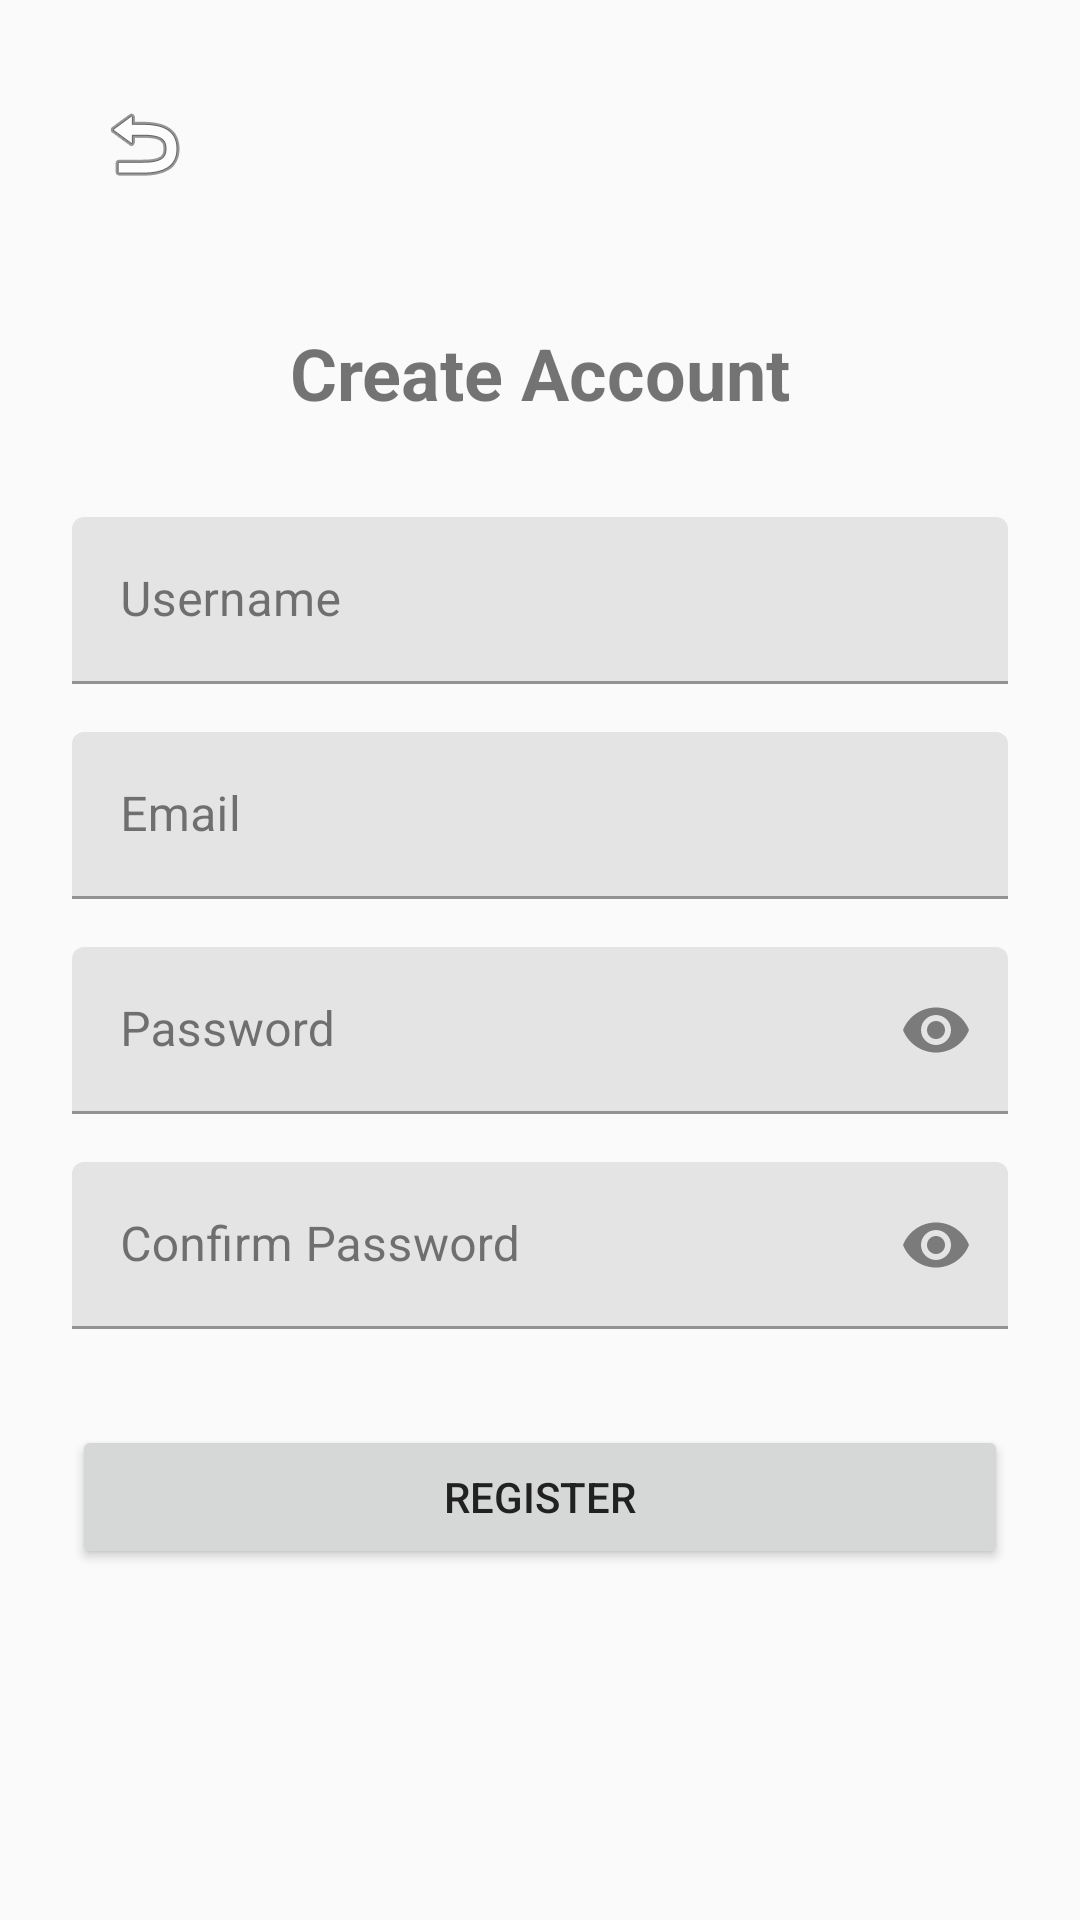

Point at icon controls on the screen. Image size 1080w x 1920h, points as [x,y].
Back to login: [145,144]
